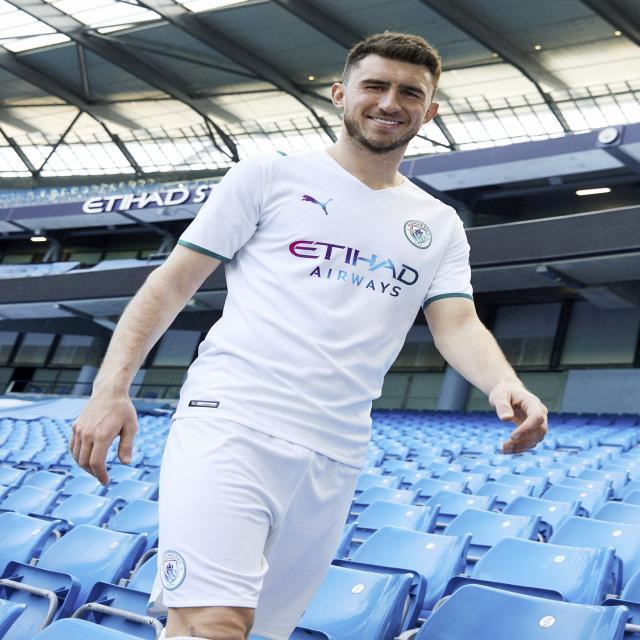Etihad Airways: (289, 239, 419, 297), (83, 187, 189, 213)
Puma: (301, 193, 334, 217)
